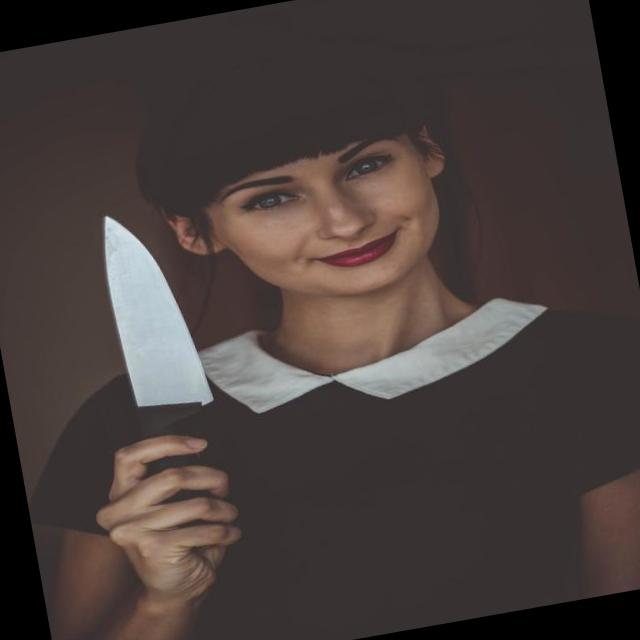Knife: (105, 216, 213, 437)
